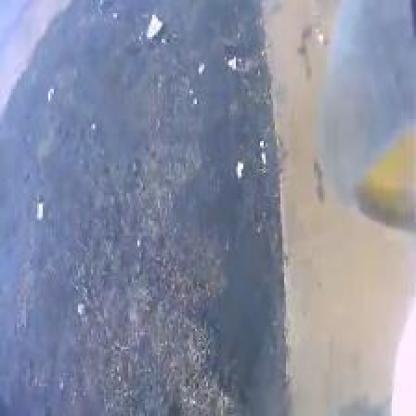other: (359, 134, 412, 219)
